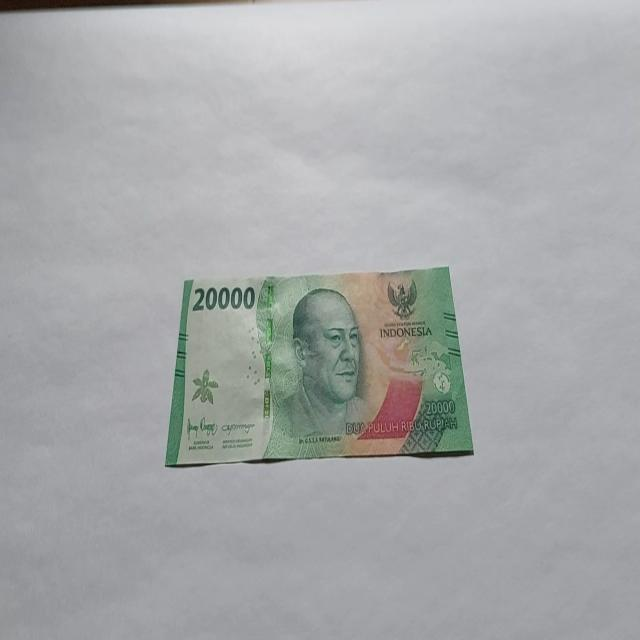dua puluh ribu rupiah: (164, 264, 474, 468)
